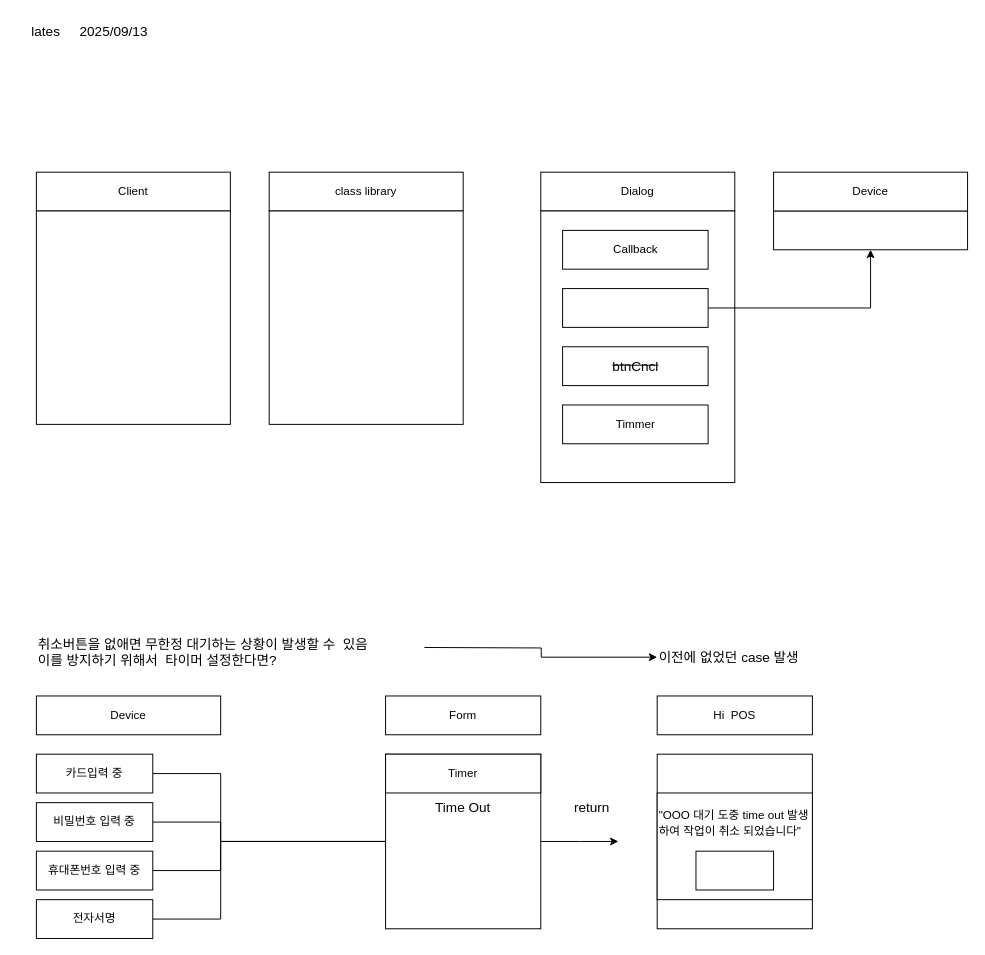
The diagram is 985 pixels wide and 955 high, and some of its shapes have lost their labels. Each missing label, with the centre of its shape:
"RS232-C" belongs at [635,307].
"확인" belongs at [734,870].
